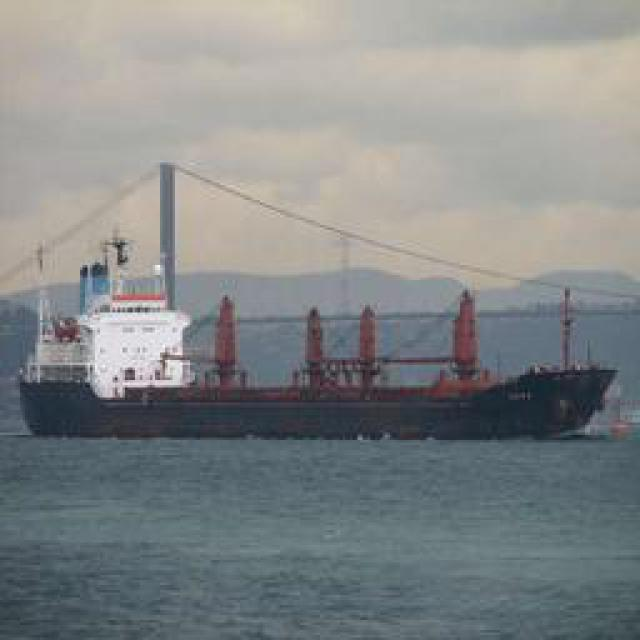Ship: (5, 262, 635, 450)
